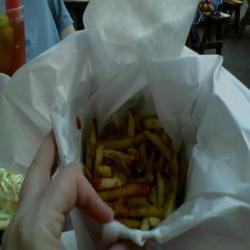fries: (64, 119, 197, 237)
